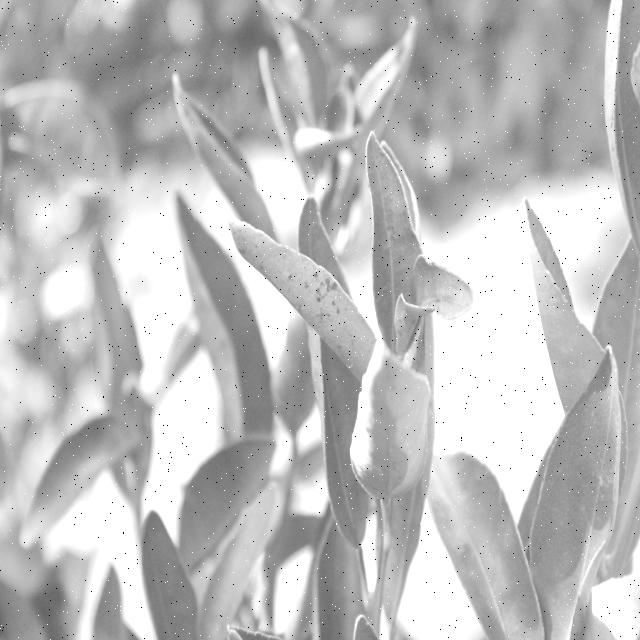melanose: (231, 210, 372, 364)
